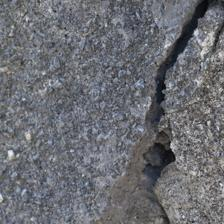Crack: (75, 1, 140, 132)
